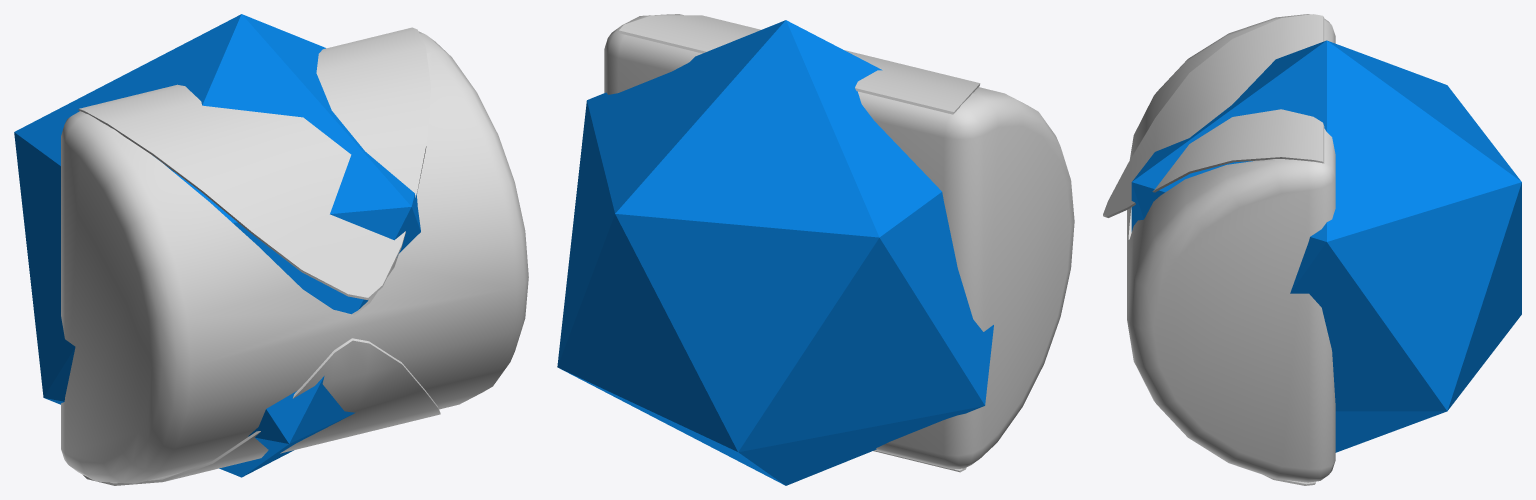
File: Mailbox.glb
3 views of the same model, side by side, from view 1: azimuth 30°, elevation 25°; view 2: azimuth 150°, elevation 25°; view 3: azimuth 270°, elevation 25° (orthographic). The views are drawn at different scales.
Parts seen in each view (by area): view 1: Mailbox, Joint.032; view 2: Joint.032, Mailbox; view 3: Mailbox, Joint.032.
Boxes of the visible parts, x1,y1,x2,y2 form: Mailbox: (61, 27, 528, 485); Joint.032: (14, 14, 420, 477); Joint.032: (557, 20, 993, 485); Mailbox: (604, 14, 1074, 472); Mailbox: (1103, 14, 1335, 485); Joint.032: (1131, 40, 1521, 452).
Size of the model in its own units: 0.2726 by 0.3048 by 0.2783.
